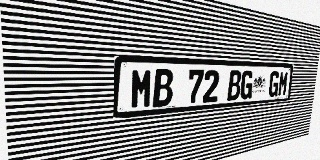2: (203, 70, 220, 103)
7: (186, 70, 204, 104)
B: (153, 69, 174, 107), (227, 70, 242, 101)
G: (240, 71, 254, 100), (268, 71, 280, 97)
M: (130, 69, 153, 109), (277, 71, 289, 96)
